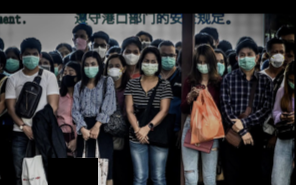with_mask: (236, 49, 257, 71), (268, 47, 287, 68), (158, 50, 177, 70), (21, 49, 40, 68), (107, 61, 125, 81), (141, 56, 159, 76), (122, 47, 140, 65), (84, 59, 100, 79), (91, 41, 108, 59), (4, 53, 20, 72), (62, 66, 76, 87), (213, 56, 226, 76), (196, 56, 211, 73), (73, 32, 87, 50), (287, 76, 295, 92)
